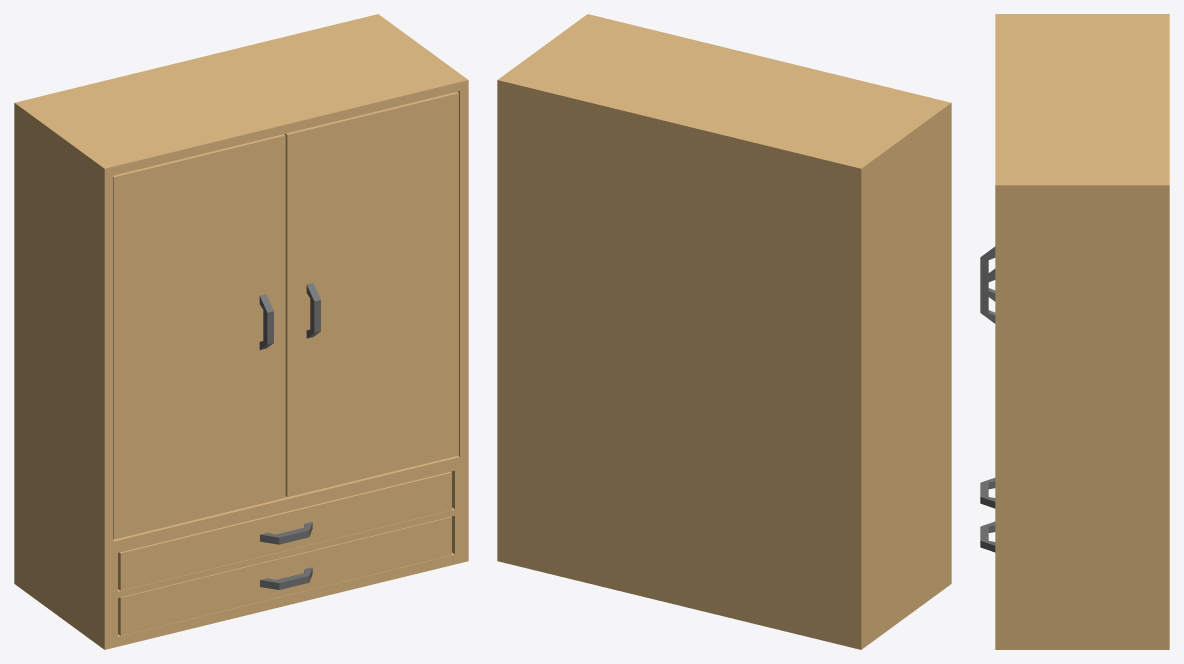
File: TallShelfWithCabinet.fbx
3 renders of one model, left to right at view 1: azimuth 30°, elevation 25°; view 2: azimuth 150°, elevation 25°; view 3: azimuth 270°, elevation 25°, orthographic. The views are drawn at different scales.
Parts seen in each view (by area): view 1: Shelf.001, Door, Door.001, Cabinet.002, Cabinet.003; view 2: Shelf.001; view 3: Shelf.001, Handle.004, Handle.002, Handle.005, Handle.003.
Boxes of the visible parts, left/top/right/bottom form: Shelf.001: left=14, top=14, right=468, bottom=649; Door: left=284, top=92, right=458, bottom=497; Door.001: left=113, top=134, right=285, bottom=539; Cabinet.002: left=118, top=471, right=451, bottom=590; Cabinet.003: left=118, top=516, right=451, bottom=635; Shelf.001: left=497, top=14, right=951, bottom=649; Shelf.001: left=995, top=14, right=1169, bottom=649; Handle.004: left=980, top=269, right=995, bottom=323; Handle.002: left=980, top=521, right=995, bottom=552; Handle.005: left=980, top=246, right=995, bottom=301; Handle.003: left=980, top=478, right=995, bottom=508.
Size of the model in its own units: 155 by 196 by 72.26.
